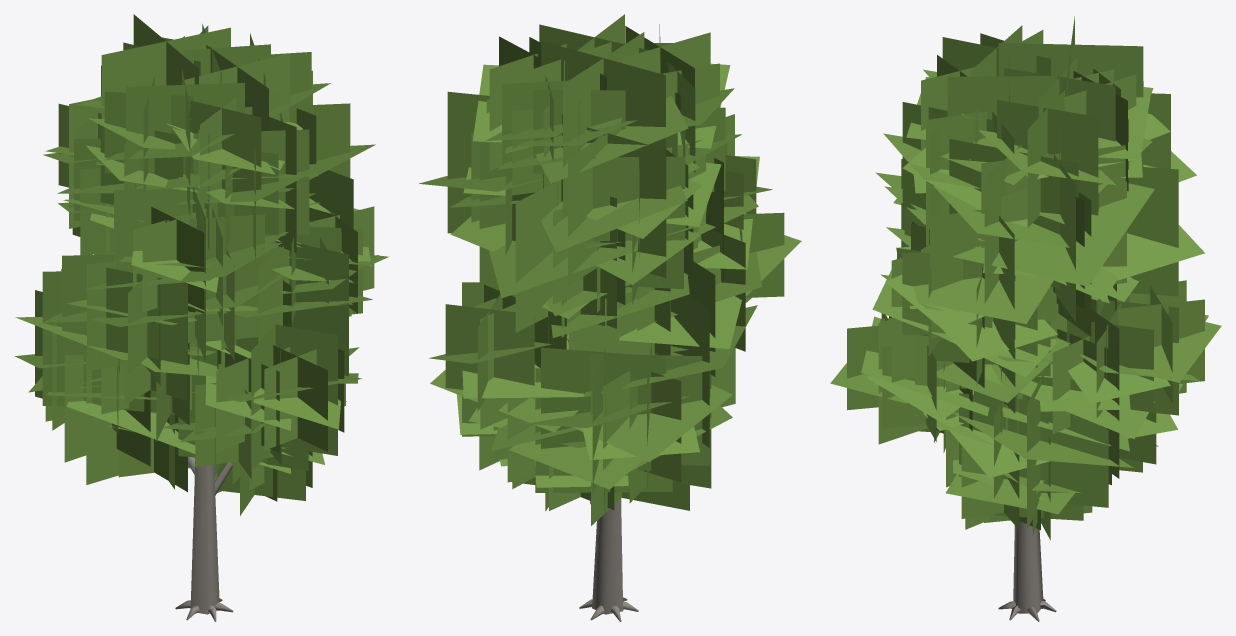
Rendered from tilleul_4_f3_loin.glb.
The picture shows the model from 3 angles, left to right: view 1: azimuth 30°, elevation 25°; view 2: azimuth 150°, elevation 25°; view 3: azimuth 270°, elevation 25°; orthographic projection. The views are drawn at different scales.
Visible parts, largest first — view 1: Tilleul_T4_f3_Leger_Loin; view 2: Tilleul_T4_f3_Leger_Loin; view 3: Tilleul_T4_f3_Leger_Loin.
Part boxes in pixels (<box>): Tilleul_T4_f3_Leger_Loin: <box>14,14,388,621</box>; Tilleul_T4_f3_Leger_Loin: <box>419,14,801,621</box>; Tilleul_T4_f3_Leger_Loin: <box>830,16,1221,621</box>.
Bounding box in the file's own units: 10.29 × 17.87 × 11.36.
